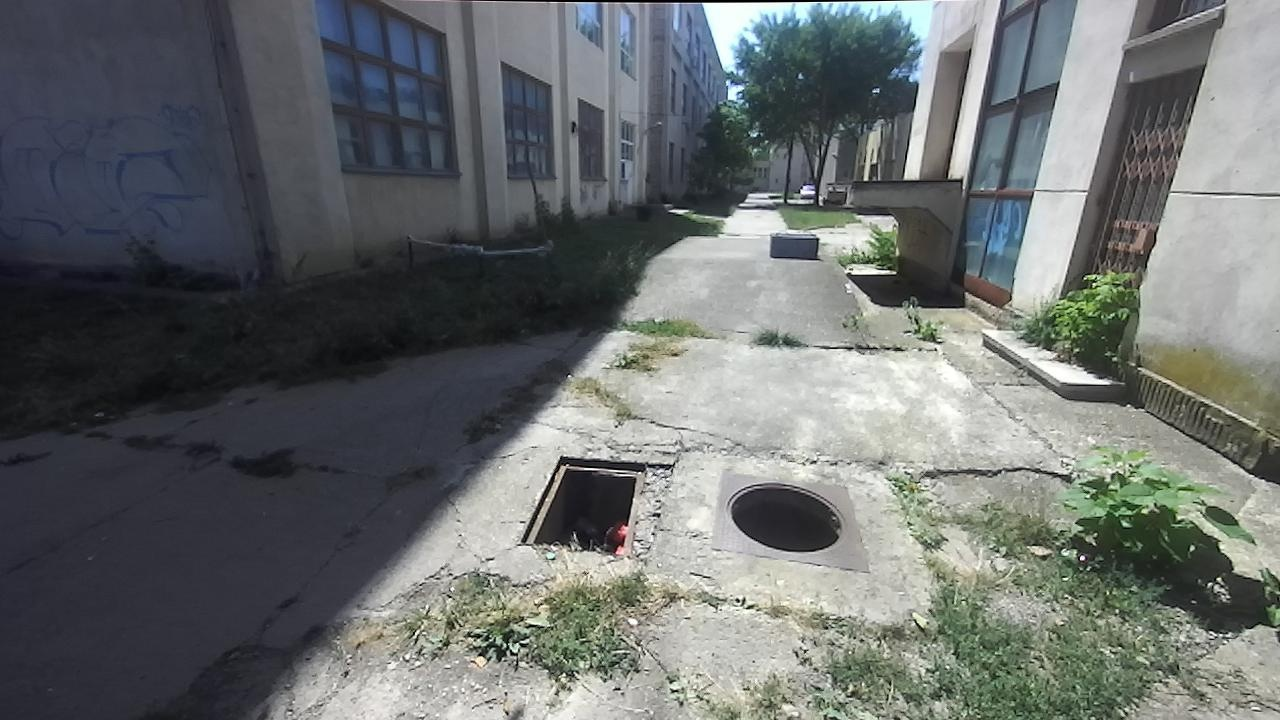drain: (509, 451, 654, 554), (720, 483, 844, 557)
